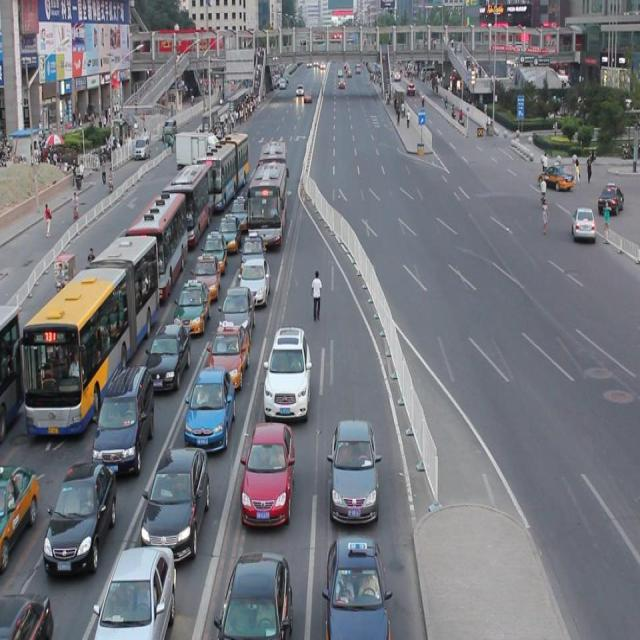bus: (175, 129, 219, 173)
car: (44, 461, 117, 574), (93, 541, 176, 640), (142, 445, 209, 560), (321, 534, 391, 640), (91, 365, 156, 475), (216, 550, 294, 640), (241, 421, 295, 526), (329, 420, 380, 520), (263, 325, 312, 418), (184, 366, 235, 451), (1, 462, 38, 562), (145, 321, 190, 392), (207, 320, 250, 389), (1, 590, 54, 640), (218, 286, 256, 344), (174, 277, 211, 335), (238, 258, 271, 306), (190, 254, 220, 301), (536, 160, 574, 192), (200, 230, 227, 274), (240, 232, 265, 272), (596, 180, 623, 216), (217, 212, 240, 253), (570, 205, 594, 238), (228, 195, 249, 230)
van: (12, 236, 158, 435), (126, 192, 187, 302), (164, 162, 212, 246), (199, 131, 249, 210), (246, 162, 289, 248), (1, 303, 24, 431), (256, 141, 288, 199)
